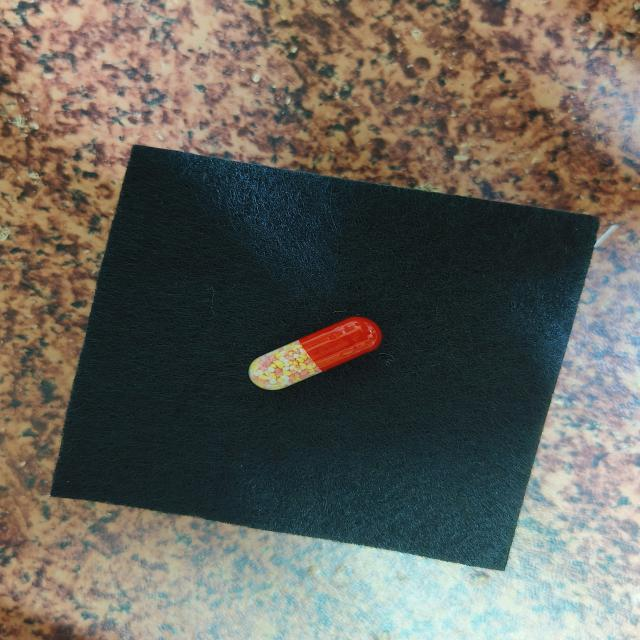Intact Capsule: (248, 316, 382, 390)
